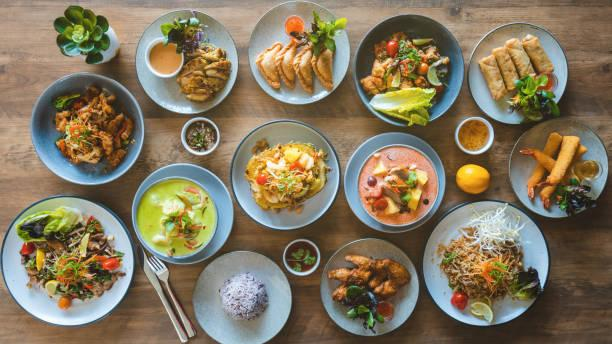Braised Crucian Carp: (0, 195, 134, 328), (422, 200, 549, 328), (30, 73, 144, 185), (353, 13, 463, 128), (230, 119, 338, 230), (133, 7, 237, 114), (247, 0, 350, 107), (343, 130, 446, 234), (467, 21, 568, 126), (130, 163, 230, 266), (508, 118, 607, 218), (320, 237, 418, 337), (192, 249, 290, 344)
